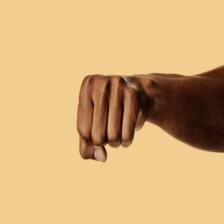five: (76, 71, 142, 163)
